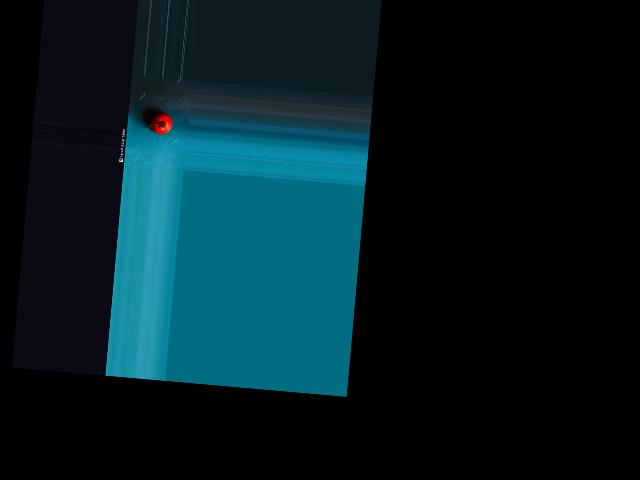tomato: (149, 111, 173, 134)
